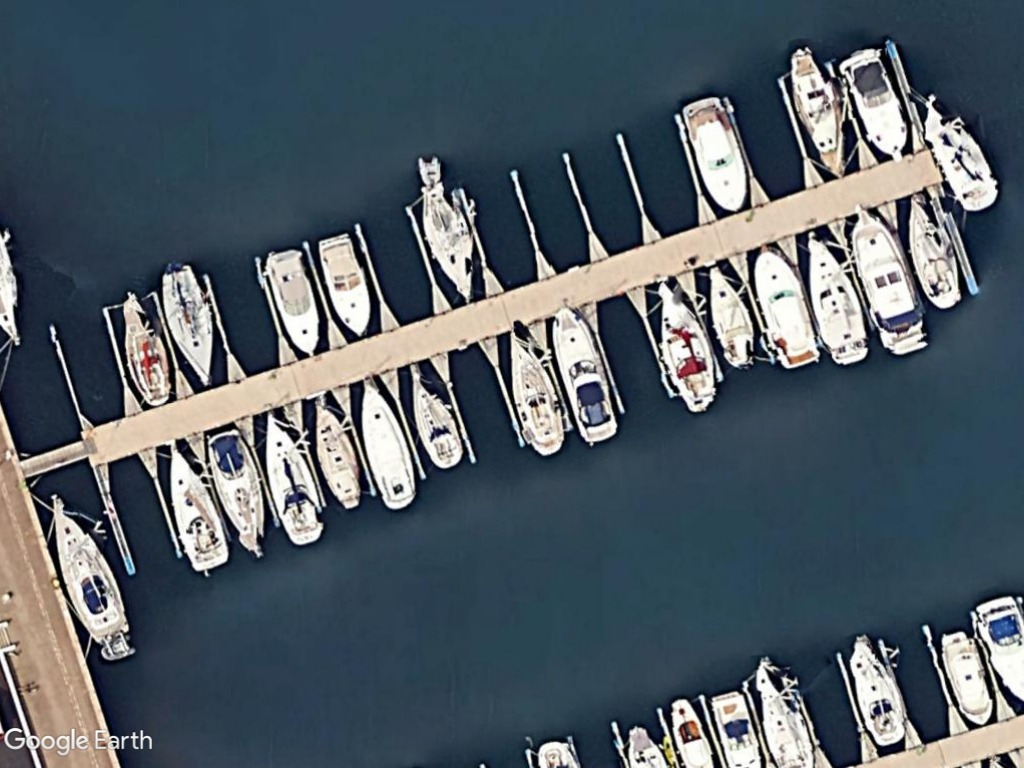boat: (47, 492, 129, 645), (850, 204, 928, 356), (920, 89, 1000, 218), (550, 304, 623, 445), (803, 229, 873, 370), (262, 408, 331, 548), (752, 244, 824, 377), (651, 279, 720, 417), (678, 88, 752, 215), (784, 41, 851, 181), (358, 372, 420, 515), (164, 439, 231, 571), (506, 325, 571, 460), (155, 257, 220, 389), (206, 425, 269, 561), (838, 45, 910, 163), (418, 176, 482, 306), (902, 191, 965, 313), (845, 629, 906, 749), (310, 393, 370, 515), (402, 361, 467, 473), (262, 244, 325, 357), (115, 293, 176, 408), (704, 259, 762, 374), (316, 231, 376, 337), (939, 625, 998, 732)
